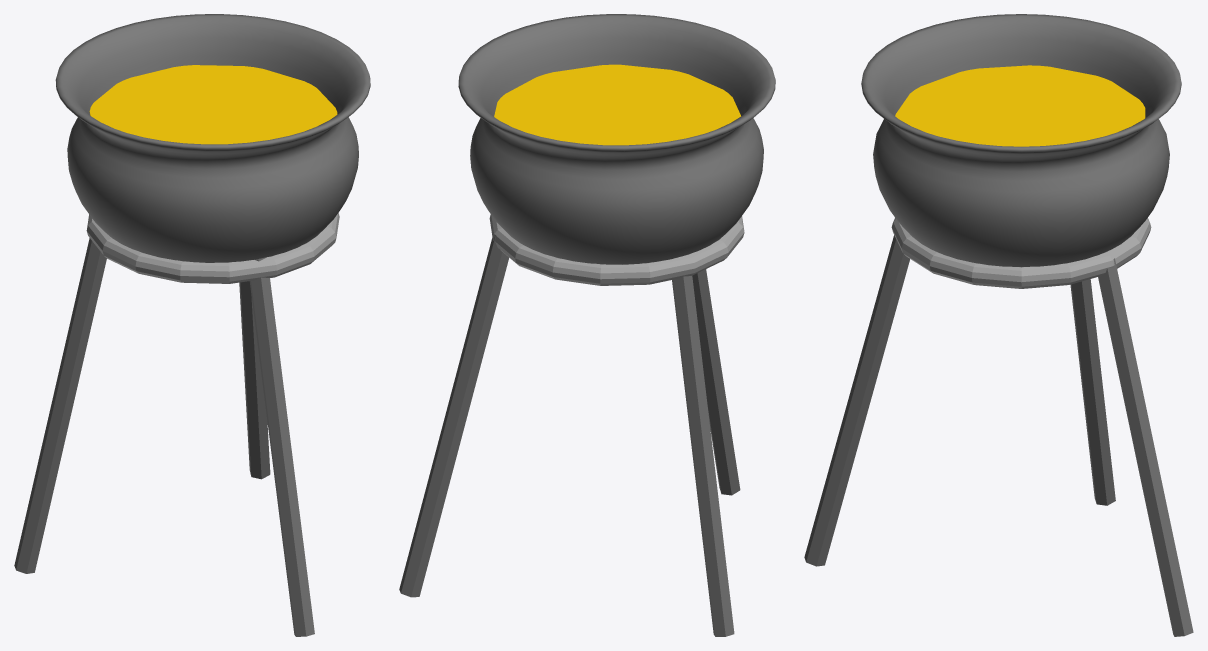
Rendered from Cauldron 3.fbx.
3 renders of one model, left to right at view 1: azimuth 30°, elevation 25°; view 2: azimuth 150°, elevation 25°; view 3: azimuth 270°, elevation 25°, orthographic.
Parts seen in each view (by area): view 1: Cylinder, Cylinder.001, Cylinder.002, Cylinder.004, Torus, Cylinder.003; view 2: Cylinder, Cylinder.001, Cylinder.003, Cylinder.004, Torus, Cylinder.002; view 3: Cylinder, Cylinder.001, Cylinder.003, Cylinder.002, Torus, Cylinder.004.
Boxes of the visible parts, x1,y1,x2,y2 form: Cylinder: (55,14,370,262); Cylinder.001: (89,65,337,144); Cylinder.002: (249,257,314,636); Cylinder.004: (14,238,106,573); Torus: (86,213,339,283); Cylinder.003: (239,281,270,479); Cylinder: (458,14,775,264); Cylinder.001: (494,64,740,145); Cylinder.003: (399,234,508,597); Cylinder.004: (672,276,734,636); Torus: (489,214,744,285); Cylinder.002: (692,269,740,495); Cylinder: (861,14,1181,267); Cylinder.001: (895,65,1145,146); Cylinder.003: (1098,258,1193,636); Cylinder.002: (804,235,909,566); Torus: (891,218,1151,288); Cylinder.004: (1070,279,1115,505).
Bounding box in the file's own units: 273 × 432 × 309.
